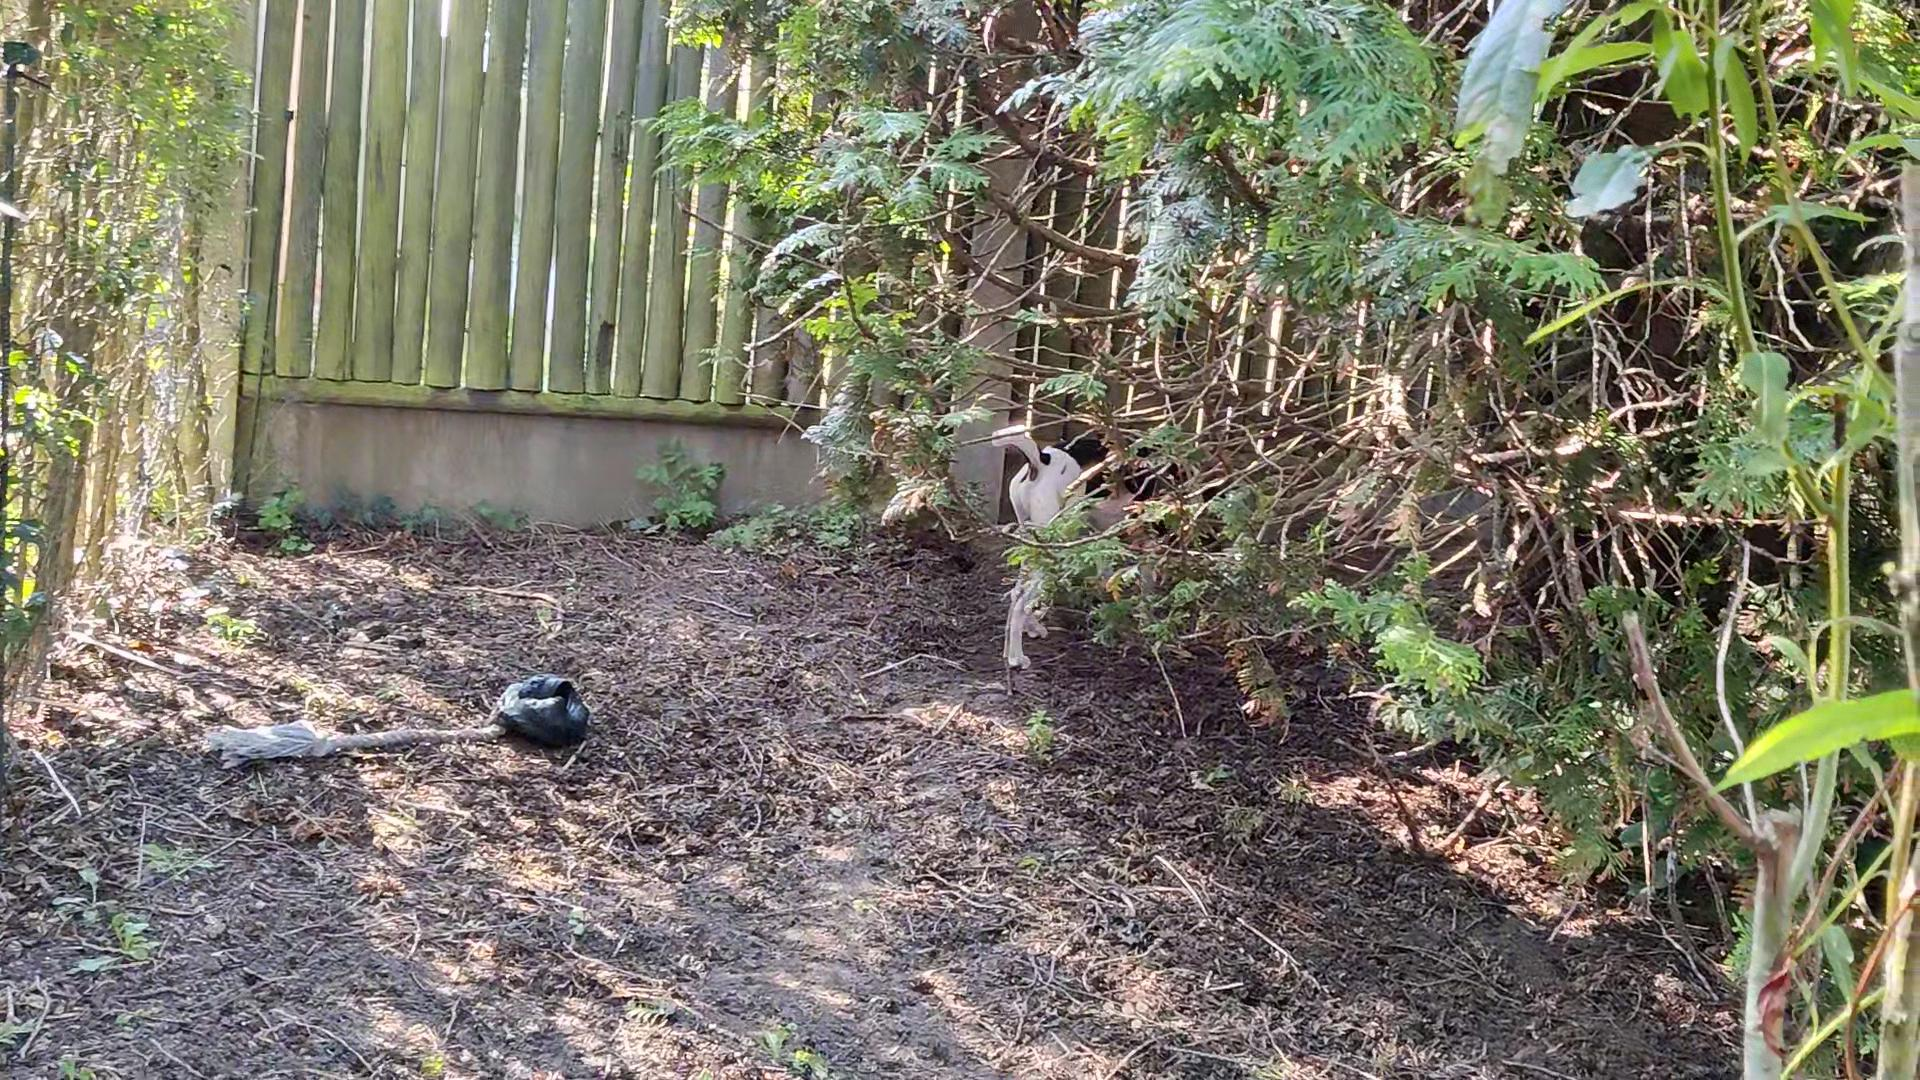Dog: (975, 411, 1244, 673)
